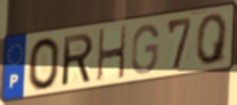7: (166, 16, 194, 72)
G: (130, 22, 161, 76)
H: (96, 24, 128, 84)
O: (27, 35, 62, 92)
Q: (195, 11, 230, 68)
R: (61, 31, 95, 89)
